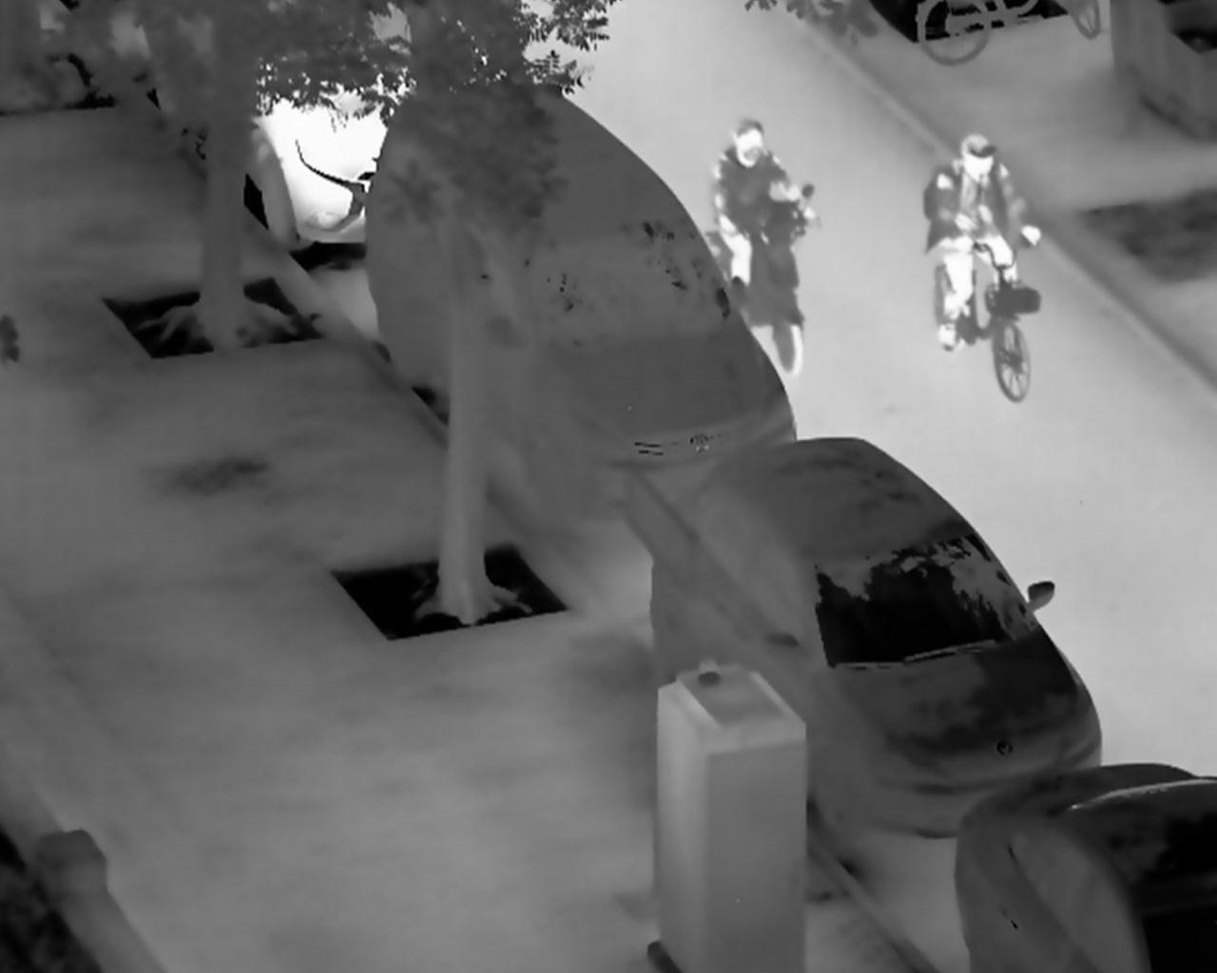person: (921, 131, 1044, 351), (709, 113, 816, 291)
